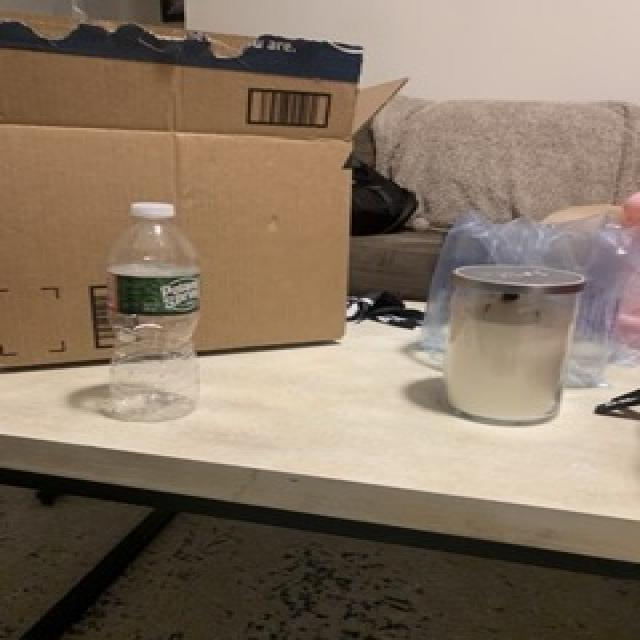water_bottle: (102, 199, 205, 423)
